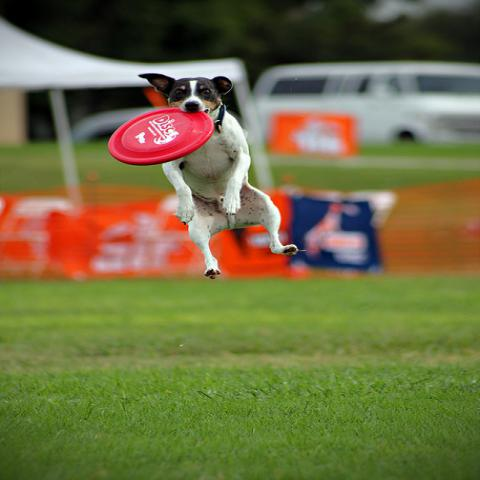car: (70, 105, 164, 145)
truck: (253, 61, 479, 147)
